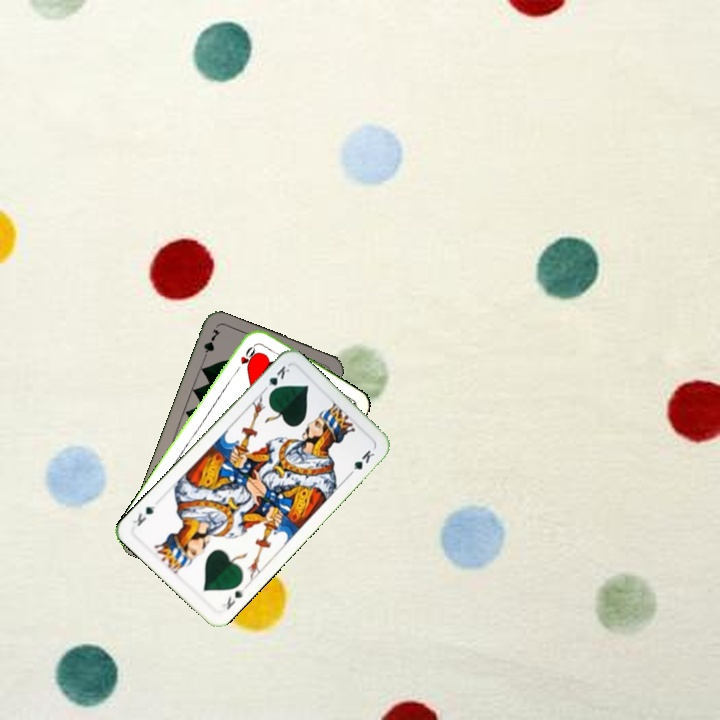G7: (198, 325, 223, 364)
GK: (264, 362, 292, 397), (218, 585, 247, 612)
HO: (231, 340, 259, 375)
